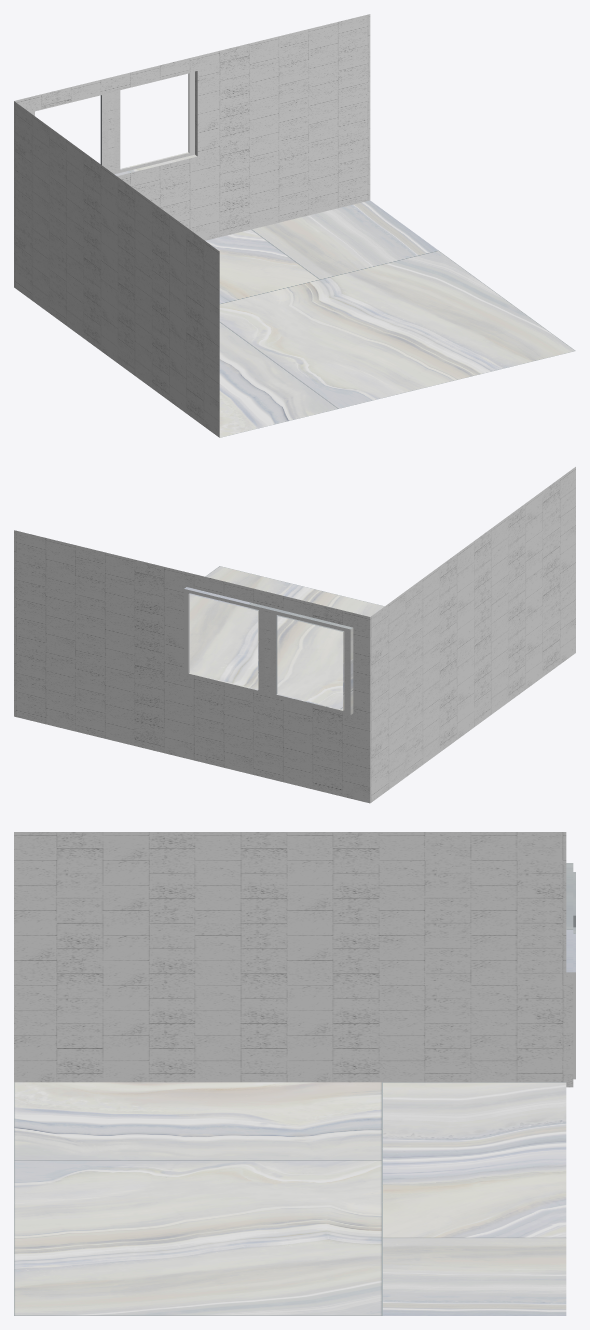
The model's file is office.obj.
The picture shows the model from 3 angles, top to bottom: view 1: azimuth 30°, elevation 25°; view 2: azimuth 150°, elevation 25°; view 3: azimuth 270°, elevation 25°; orthographic projection. The views are drawn at different scales.
Parts seen in each view (by area): view 1: Plane; view 2: Plane; view 3: Plane.
Boxes of the visible parts, x1,y1,x2,y2 form: Plane: (14,14,575,437); Plane: (14,467,575,803); Plane: (14,832,575,1315).
Bounding box in the file's own units: 4 × 2 × 4.07.
